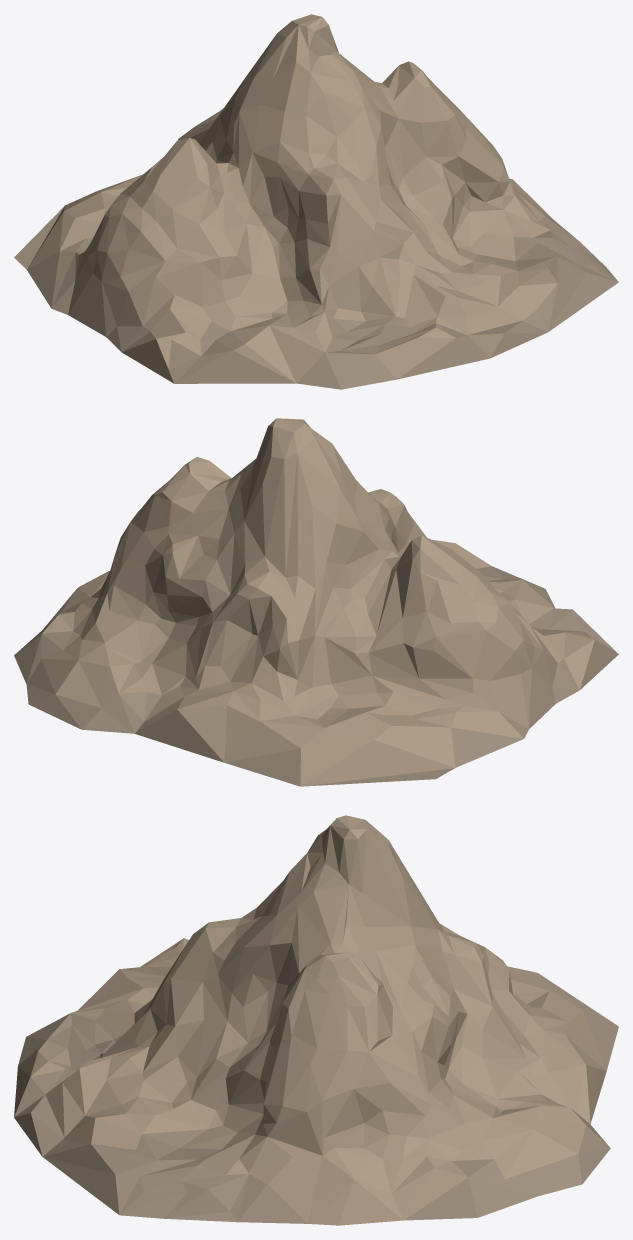
The model's file is SM_Env_Hill_04.fbx.
3 renders of one model, top to bottom at view 1: azimuth 30°, elevation 25°; view 2: azimuth 150°, elevation 25°; view 3: azimuth 270°, elevation 25°, orthographic. The views are drawn at different scales.
Visible parts, largest first — view 1: SM_Env_Hill_04; view 2: SM_Env_Hill_04; view 3: SM_Env_Hill_04.
Part boxes in pixels (bbox=[...]): SM_Env_Hill_04: bbox=[14, 14, 618, 389]; SM_Env_Hill_04: bbox=[14, 418, 618, 786]; SM_Env_Hill_04: bbox=[14, 815, 618, 1225].
Bounding box in the file's own units: 0.2564 × 0.1248 × 0.2481.
1 material, 1 textured.
